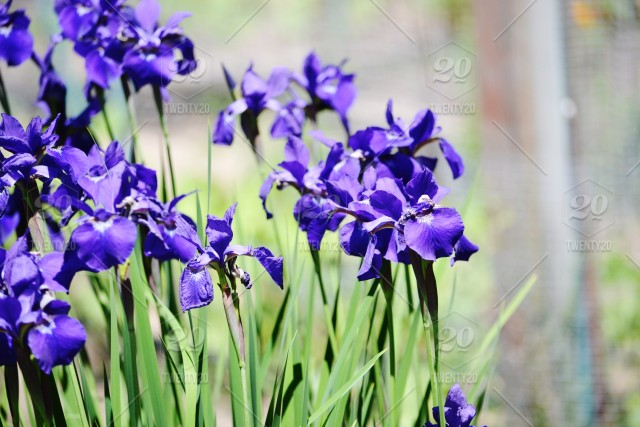violet: (1, 16, 243, 339), (222, 55, 493, 279)
